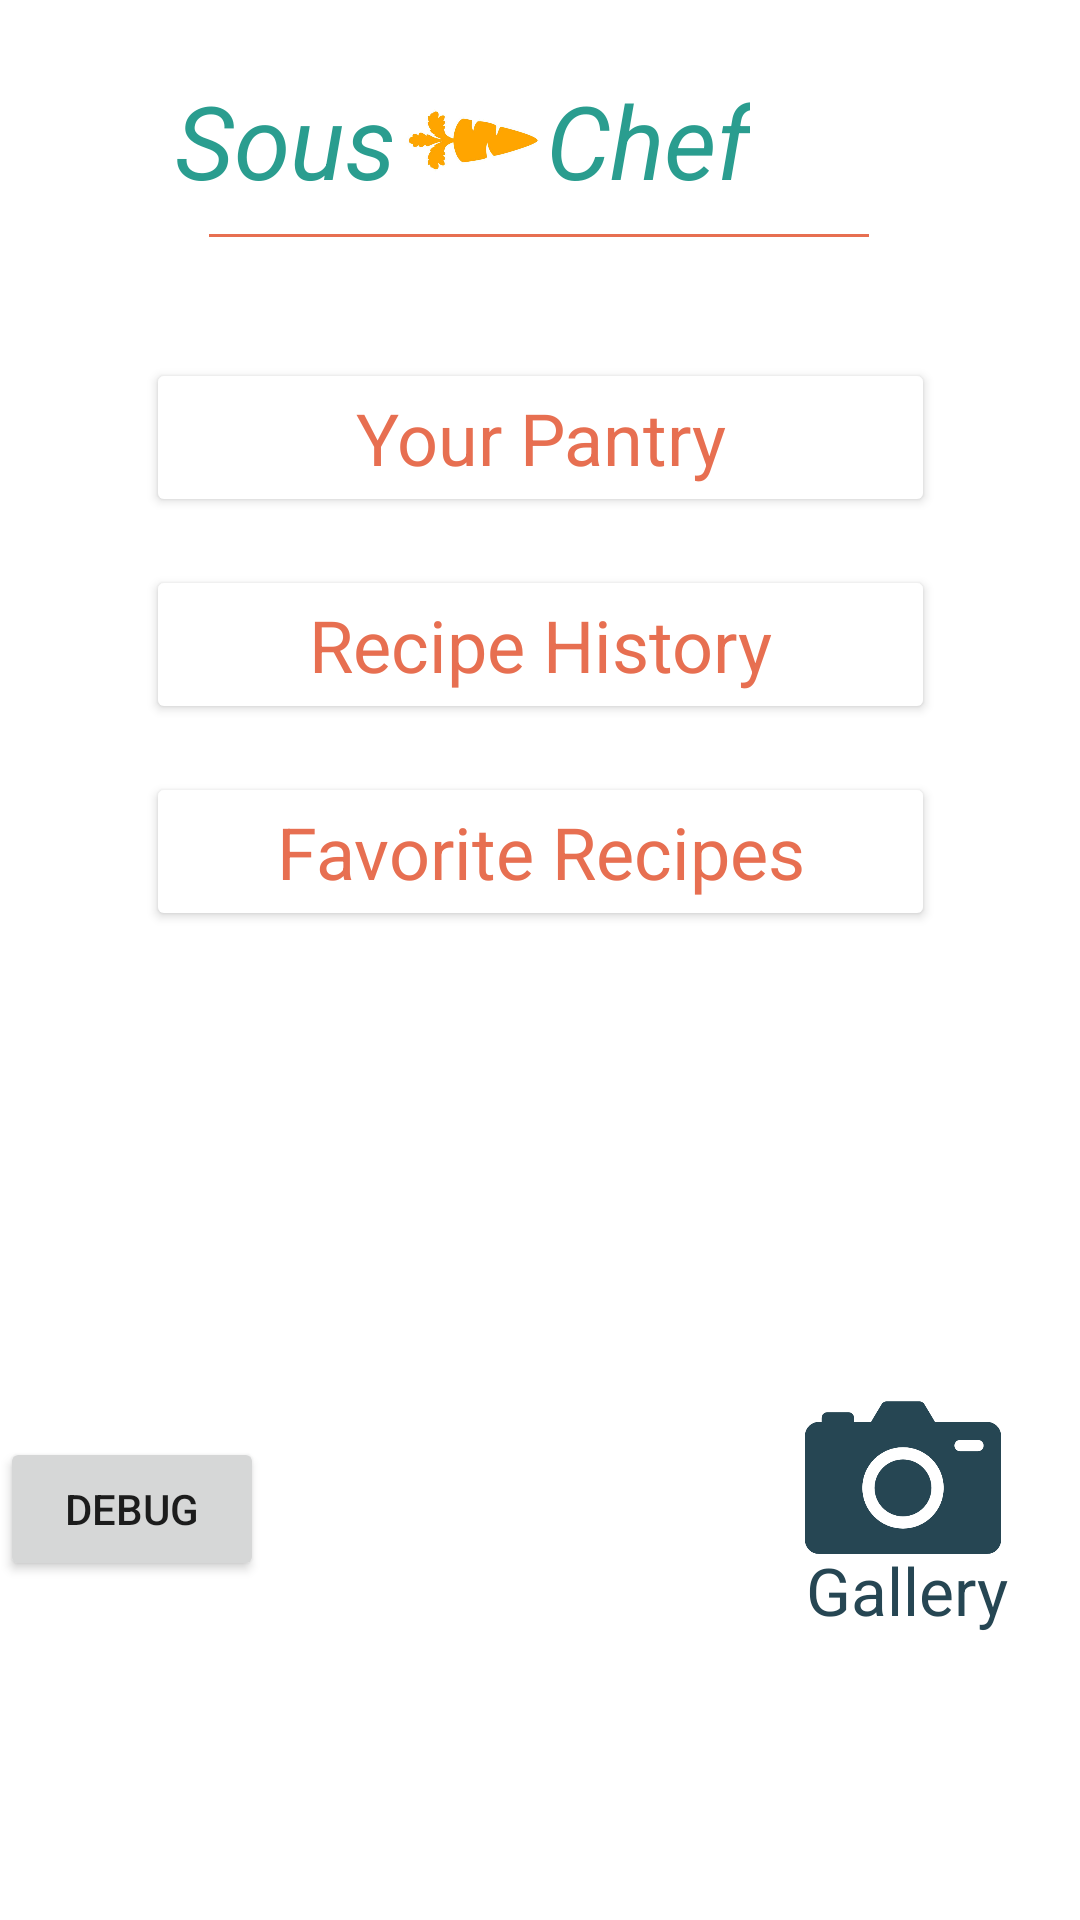

Icon click points for this 1080w x 1920h phone screenshot, format (x=x, y=y):
camera: (x=903, y=1477)
carrot: (x=473, y=140)
